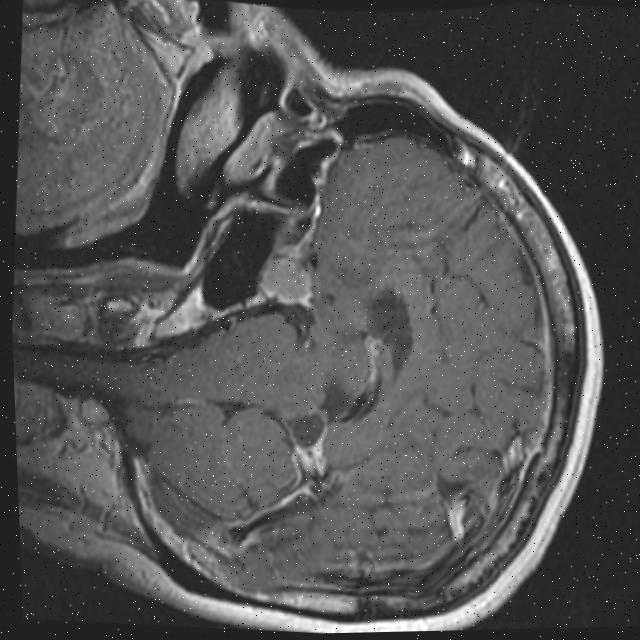Pituitary: (254, 255, 316, 309)
